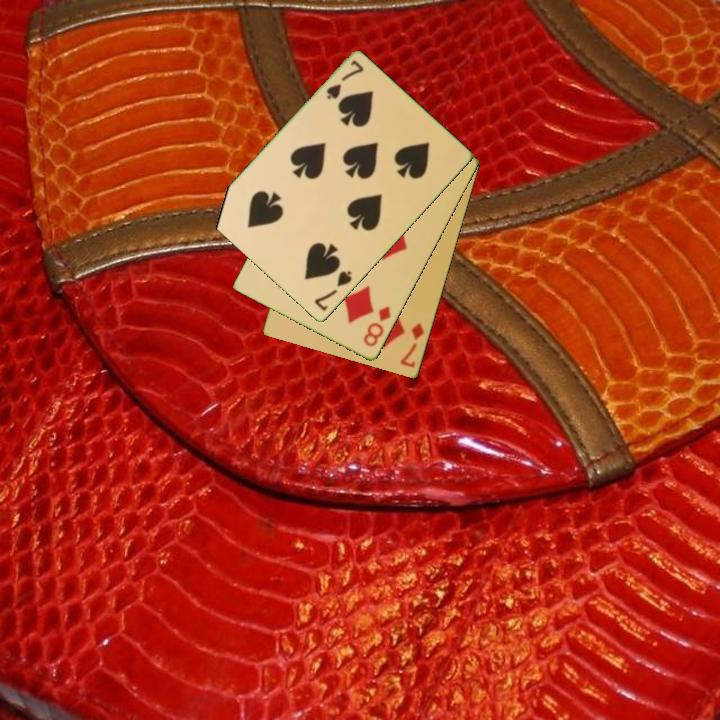7d: (397, 319, 427, 371)
7s: (311, 267, 355, 314), (323, 57, 367, 103)
8d: (360, 303, 394, 350)
